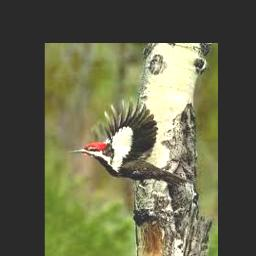Woodpecker: (69, 99, 192, 189)
